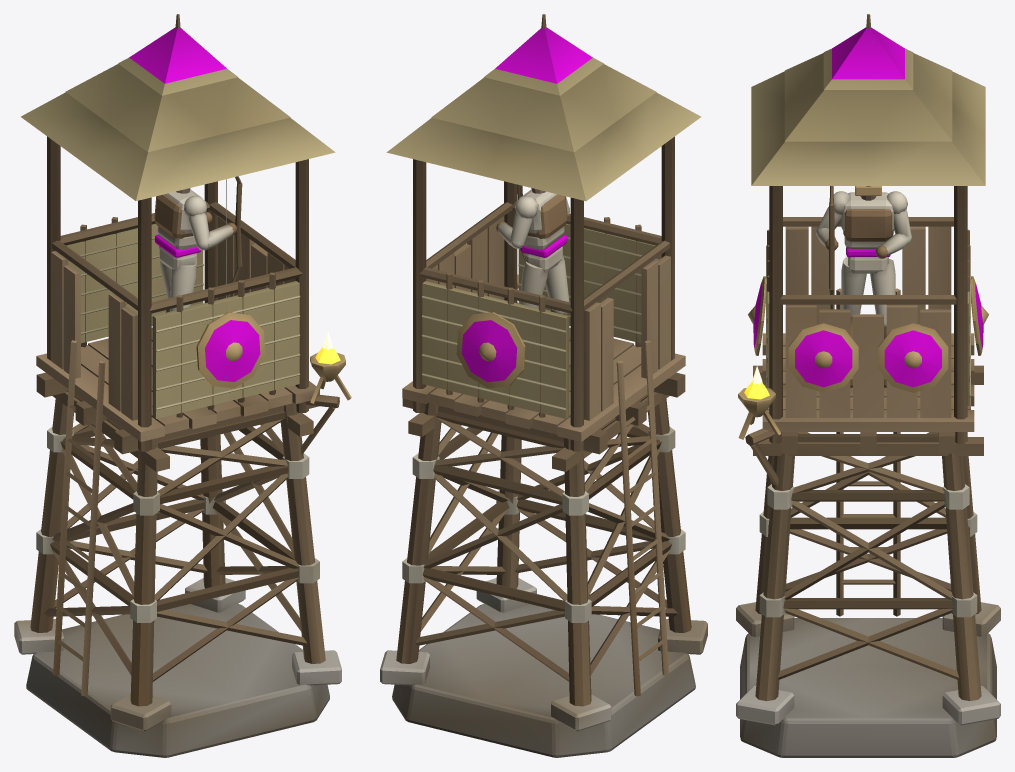
File: watchtower.glb
3 renders of one model, left to right at view 1: azimuth 30°, elevation 25°; view 2: azimuth 150°, elevation 25°; view 3: azimuth 270°, elevation 25°, orthographic.
Parts seen in each view (by area): view 1: Body, Turret; view 2: Body, Turret; view 3: Body, Turret.
Part boxes in pixels (left/top/right/bottom): Body: left=14, top=14, right=351, bottom=757; Turret: left=154, top=176, right=242, bottom=312; Body: left=380, top=14, right=707, bottom=757; Turret: left=496, top=184, right=569, bottom=315; Body: left=736, top=14, right=1000, bottom=757; Turret: left=816, top=186, right=911, bottom=387.
Size of the model in its own units: 1.95 by 5.61 by 1.95.
Materials: 1 (1 with a texture image).
